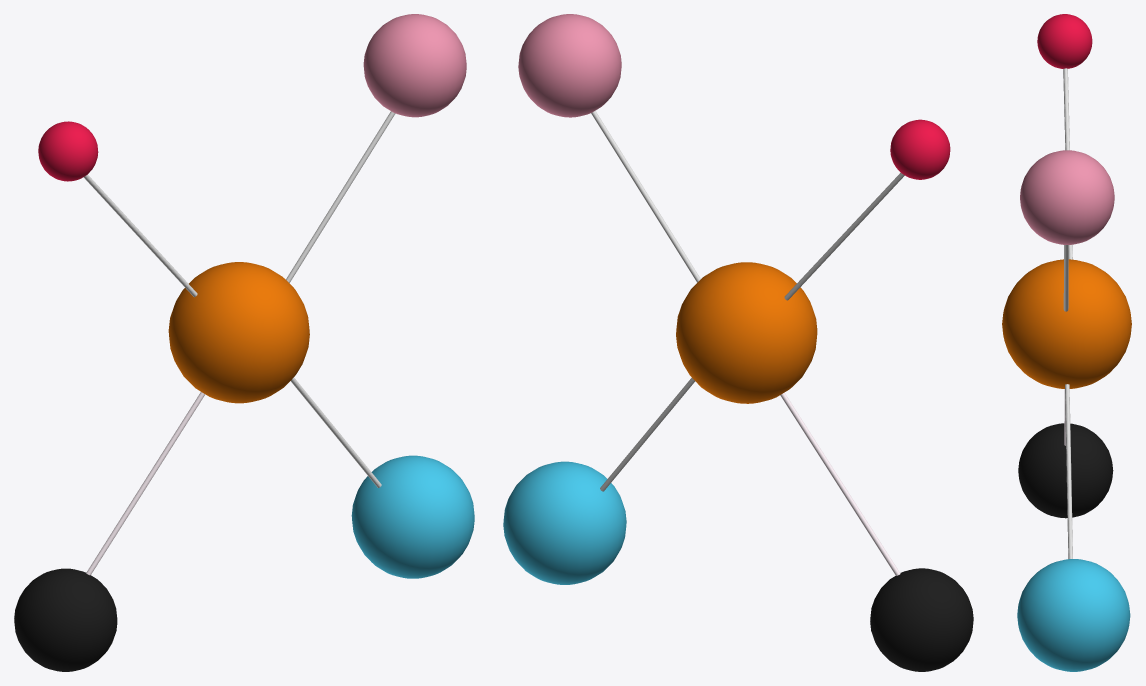
3 views of the same model, side by side, from view 1: azimuth 30°, elevation 25°; view 2: azimuth 150°, elevation 25°; view 3: azimuth 270°, elevation 25° (orthographic). The views are drawn at different scales.
Visible parts, largest first — view 1: Sphere, Sphere.003, Sphere.004, Sphere.002, Sphere.001, Cylinder.003, Cylinder, Cylinder.001, Cylinder.002; view 2: Sphere, Sphere.003, Sphere.004, Sphere.002, Sphere.001, Cylinder.003, Cylinder, Cylinder.001, Cylinder.002; view 3: Sphere, Sphere.003, Sphere.002, Sphere.004, Sphere.001, Cylinder.002, Cylinder.001, Cylinder.
Boxes of the visible parts, x1=… form: Sphere: x1=168, y1=262, x2=309, y2=403; Sphere.003: x1=351, y1=455, x2=474, y2=578; Sphere.004: x1=14, y1=568, x2=117, y2=671; Sphere.002: x1=363, y1=14, x2=466, y2=117; Sphere.001: x1=38, y1=121, x2=98, y2=181; Cylinder.003: x1=86, y1=392, x2=204, y2=575; Cylinder: x1=286, y1=111, x2=395, y2=282; Cylinder.001: x1=83, y1=174, x2=197, y2=297; Cylinder.002: x1=291, y1=377, x2=381, y2=487; Sphere: x1=676, y1=262, x2=817, y2=403; Sphere.003: x1=503, y1=461, x2=626, y2=584; Sphere.004: x1=870, y1=568, x2=973, y2=671; Sphere.002: x1=518, y1=14, x2=621, y2=117; Sphere.001: x1=890, y1=119, x2=950, y2=179; Cylinder.003: x1=780, y1=392, x2=900, y2=575; Cylinder: x1=591, y1=110, x2=700, y2=282; Cylinder.001: x1=784, y1=172, x2=904, y2=300; Cylinder.002: x1=600, y1=378, x2=695, y2=491; Sphere: x1=1002, y1=259, x2=1131, y2=388; Sphere.003: x1=1017, y1=559, x2=1130, y2=671; Sphere.002: x1=1020, y1=150, x2=1114, y2=244; Sphere.004: x1=1018, y1=423, x2=1113, y2=518; Sphere.001: x1=1037, y1=14, x2=1092, y2=68; Cylinder.002: x1=1065, y1=384, x2=1072, y2=559; Cylinder.001: x1=1063, y1=68, x2=1072, y2=259; Cylinder: x1=1063, y1=245, x2=1068, y2=311.
Size of the model in its own units: 7.34 by 8.77 by 2.
